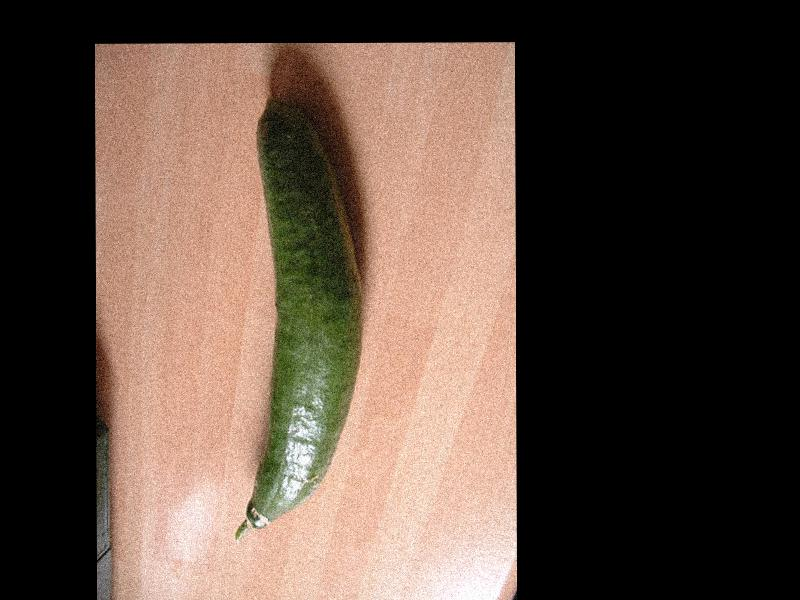Cucumber: (234, 95, 365, 541)
